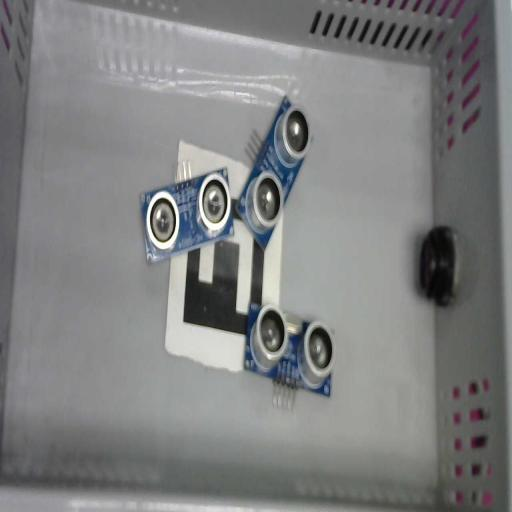ultrasonic_hc-sr04: (237, 93, 311, 252), (243, 304, 335, 413), (140, 166, 235, 264)
